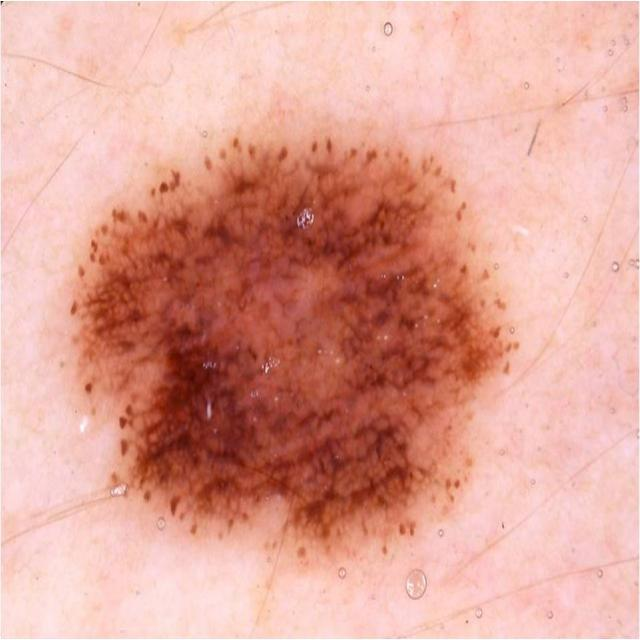Skin-Cancer Nevus: (35, 54, 597, 606)
